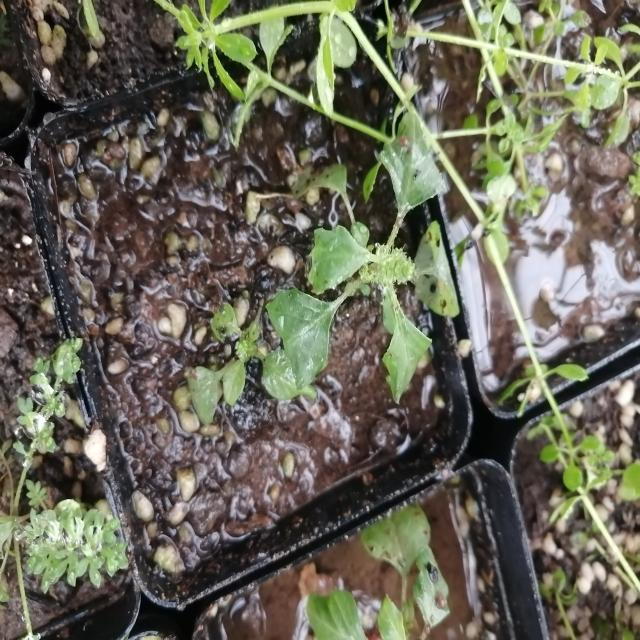pigweed: (266, 131, 472, 394)
